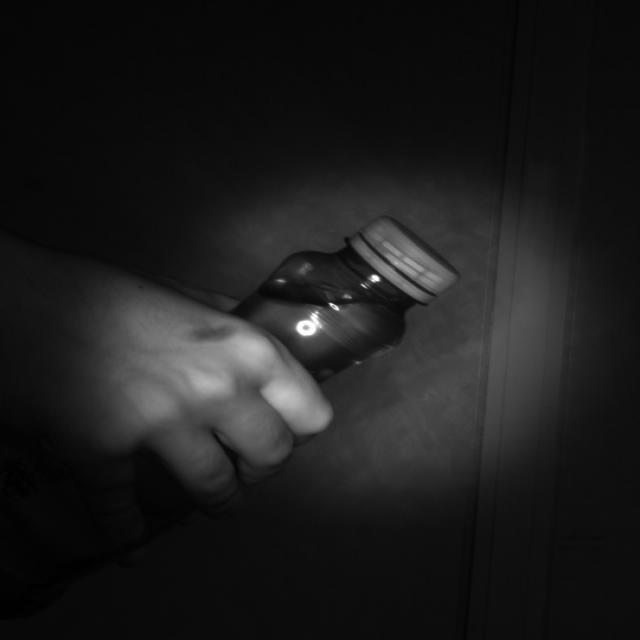Not Good: (350, 212, 458, 304)
